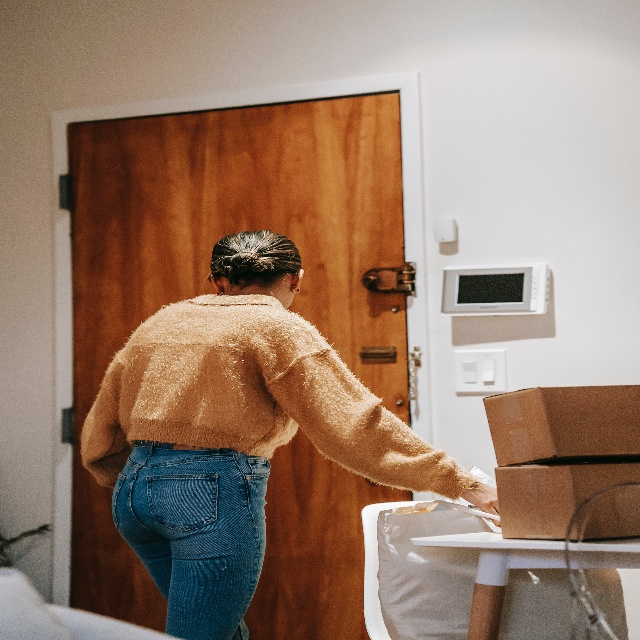Sin_guantes: (462, 481, 501, 528)
